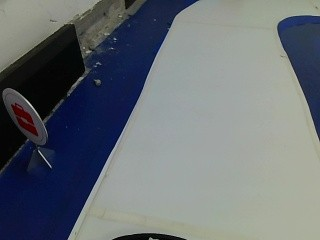company: (0, 86, 47, 145)
